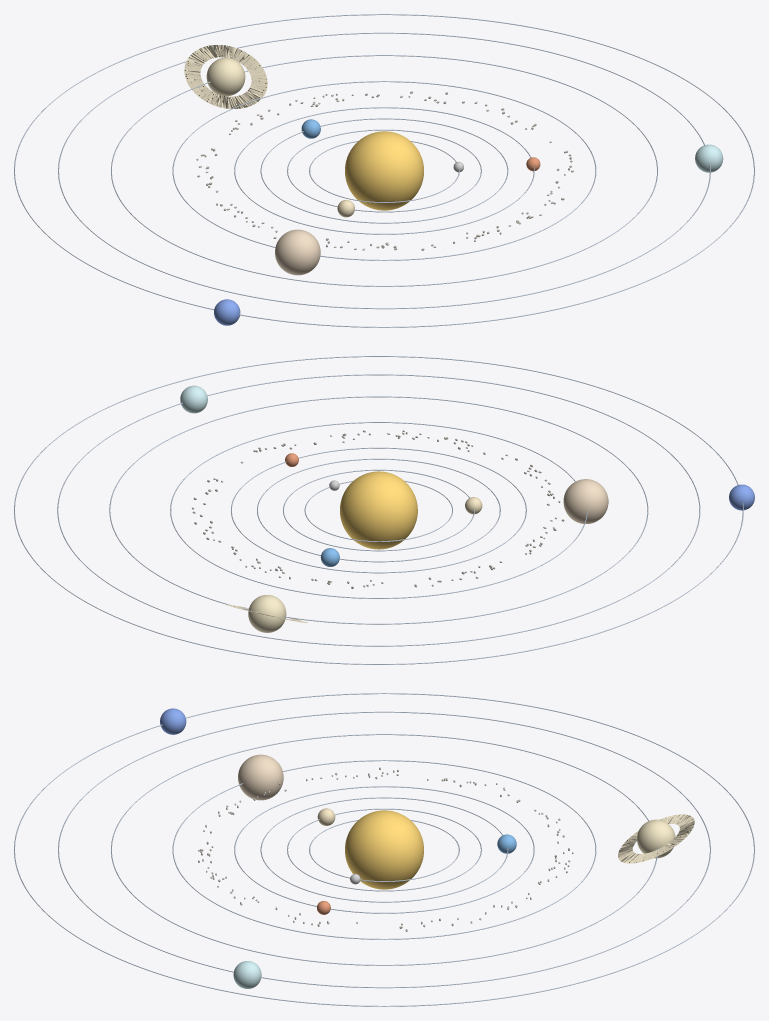
The model's file is solar_system.glb.
3 views of the same model, one above another, from view 1: azimuth 30°, elevation 25°; view 2: azimuth 150°, elevation 25°; view 3: azimuth 270°, elevation 25° (orthographic).
Visible parts, largest first — view 1: orbits, sun, saturn_rings, jupiter, saturn, asteroids, uranus, neptune; view 2: orbits, sun, jupiter, saturn, asteroids, uranus, neptune; view 3: orbits, sun, jupiter, saturn_rings, saturn, asteroids, uranus, neptune.
Boxes of the visible parts, x1,y1,x2,y2 form: orbits: (14, 14, 754, 327); sun: (345, 131, 423, 210); saturn_rings: (184, 45, 267, 108); jupiter: (275, 229, 320, 275); saturn: (206, 57, 245, 96); asteroids: (196, 91, 573, 250); uranus: (695, 144, 723, 172); neptune: (214, 299, 240, 325); orbits: (14, 356, 743, 664); sun: (340, 471, 417, 549); jupiter: (563, 479, 608, 523); saturn: (248, 595, 286, 632); asteroids: (192, 430, 564, 588); uranus: (180, 385, 207, 413); neptune: (729, 484, 754, 510); orbits: (14, 693, 754, 1006); sun: (345, 810, 423, 889); jupiter: (238, 754, 283, 800); saturn_rings: (618, 814, 694, 863); saturn: (637, 819, 675, 858); asteroids: (198, 767, 573, 931); uranus: (233, 961, 261, 988); neptune: (160, 708, 186, 734).
Size of the model in its own units: 0.8412 by 0.09 by 0.8412.
